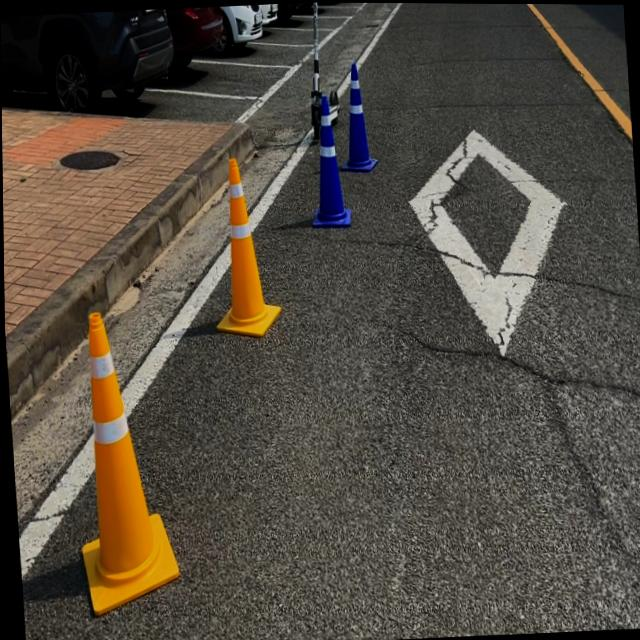b_rub: (312, 93, 352, 226), (341, 60, 378, 169)
y_rub: (80, 311, 177, 615), (216, 156, 280, 335)
